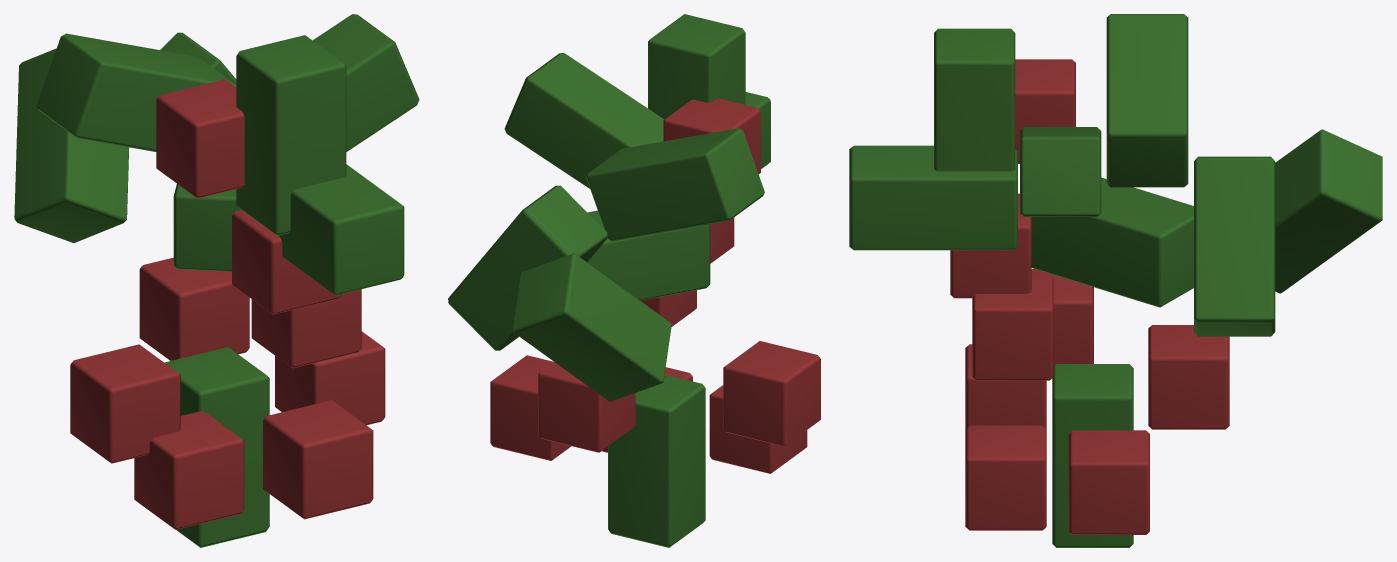
Rendered from cubeflower.fbx.
3 views of the same model, side by side, from view 1: azimuth 30°, elevation 25°; view 2: azimuth 150°, elevation 25°; view 3: azimuth 270°, elevation 25° (orthographic). The views are drawn at different scales.
Parts seen in each view (by area): view 1: longcube18, longcube19, longcube17, longcube22, pCube19, pCube22, pCube21, longcube16, pCube18, pCube23, longcube15, pCube20 (+4 smaller); view 2: longcube19, longcube17, longcube16, longcube15, longcube20, pCube22, longcube18, longcube21, pCube18, pCube20, pCube23, pCube21 (+3 smaller); view 3: longcube22, longcube20, longcube17, longcube21, longcube19, longcube18, pCube19, pCube20, longcube16, pCube18, pCube17, longcube15 (+4 smaller).
Part boxes in pixels (box(x1,y1,x2,y2)): longcube18: box(236, 35, 346, 235); longcube19: box(14, 48, 129, 242); longcube17: box(36, 33, 236, 151); longcube22: box(278, 164, 404, 295); pCube19: box(263, 400, 373, 519); pCube22: box(70, 344, 180, 463); pCube21: box(134, 410, 244, 529); longcube16: box(164, 347, 269, 547); pCube18: box(139, 257, 249, 360); pCube23: box(156, 79, 244, 198); longcube15: box(313, 14, 419, 151); pCube20: box(275, 331, 385, 425); longcube19: box(513, 253, 671, 401); longcube17: box(586, 128, 764, 241); longcube16: box(608, 374, 705, 547); longcube15: box(504, 53, 664, 188); longcube20: box(448, 185, 607, 350); pCube22: box(723, 341, 820, 446); longcube18: box(648, 14, 745, 119); longcube21: box(587, 210, 710, 300); pCube18: box(538, 362, 635, 452); pCube20: box(490, 355, 571, 460); pCube23: box(663, 98, 760, 173); pCube21: box(709, 385, 807, 473); longcube22: box(849, 145, 1017, 250); longcube20: box(1194, 156, 1275, 336); longcube17: box(1106, 14, 1188, 187); longcube21: box(1031, 177, 1193, 307); longcube19: box(1275, 129, 1382, 293); longcube18: box(934, 28, 1015, 171); pCube19: box(965, 425, 1046, 530); pCube20: box(1068, 430, 1149, 534); longcube16: box(1052, 364, 1133, 547); pCube18: box(1148, 325, 1229, 429); pCube17: box(972, 276, 1053, 380); longcube15: box(1020, 127, 1101, 216).
Bounding box in the file's own units: 43.49 × 67.24 × 65.57.
